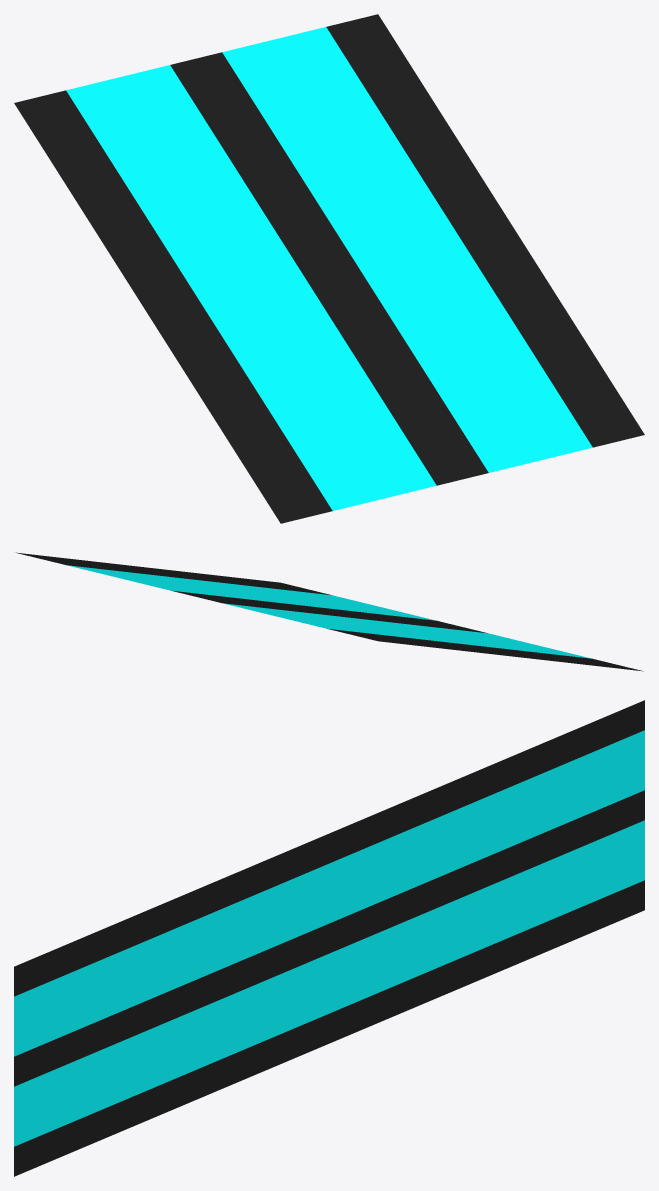
Rendered from RaceTrack_Up25Degree_7m 1.fbx.
3 views of the same model, one above another, from view 1: azimuth 30°, elevation 25°; view 2: azimuth 150°, elevation 25°; view 3: azimuth 270°, elevation 25° (orthographic). The views are drawn at different scales.
Parts seen in each view (by area): view 1: Up25Degree_7m; view 2: Up25Degree_7m; view 3: Up25Degree_7m.
Part boxes in pixels (box(x1,y1,x2,y2)): Up25Degree_7m: box(14, 14, 644, 523); Up25Degree_7m: box(16, 552, 642, 671); Up25Degree_7m: box(14, 700, 644, 1176).
Bounding box in the file's own units: 5 × 2.96 × 6.34.
